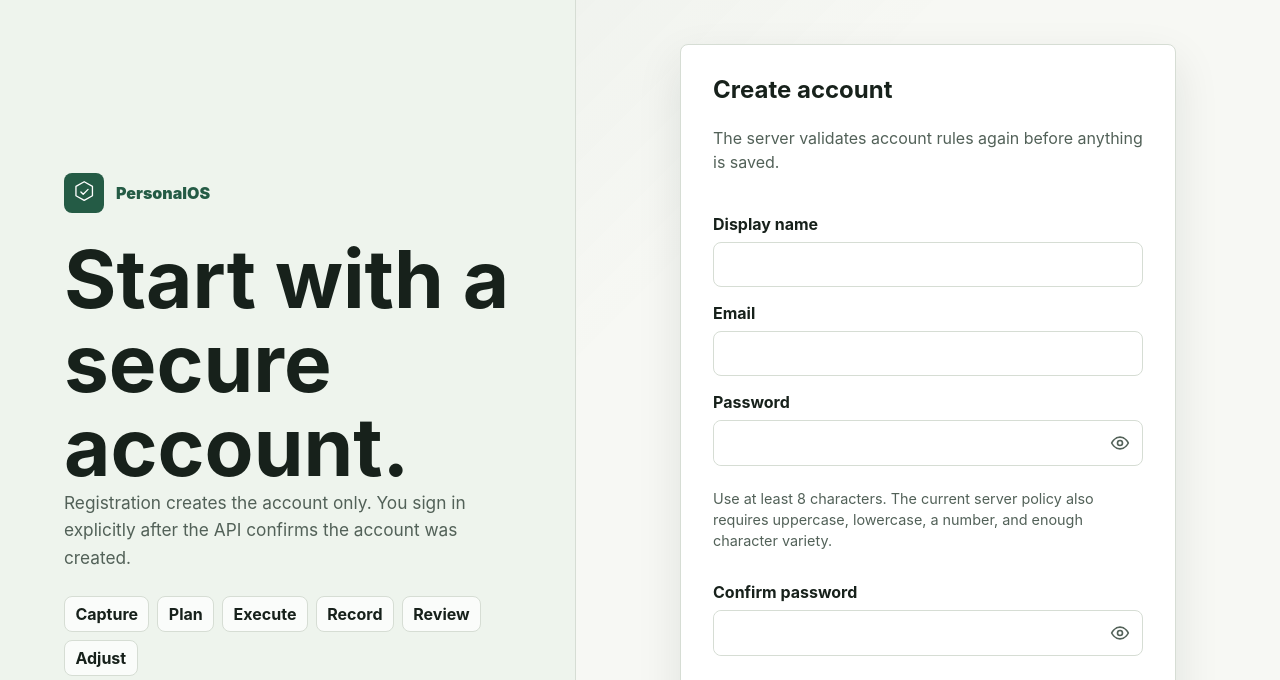
Test case: RegisterComponent › maps safe server validation errors to fields and clears password fields
In the field with id "register-display-name": (928, 265) [713,242,1143,287], type "Jefferson"
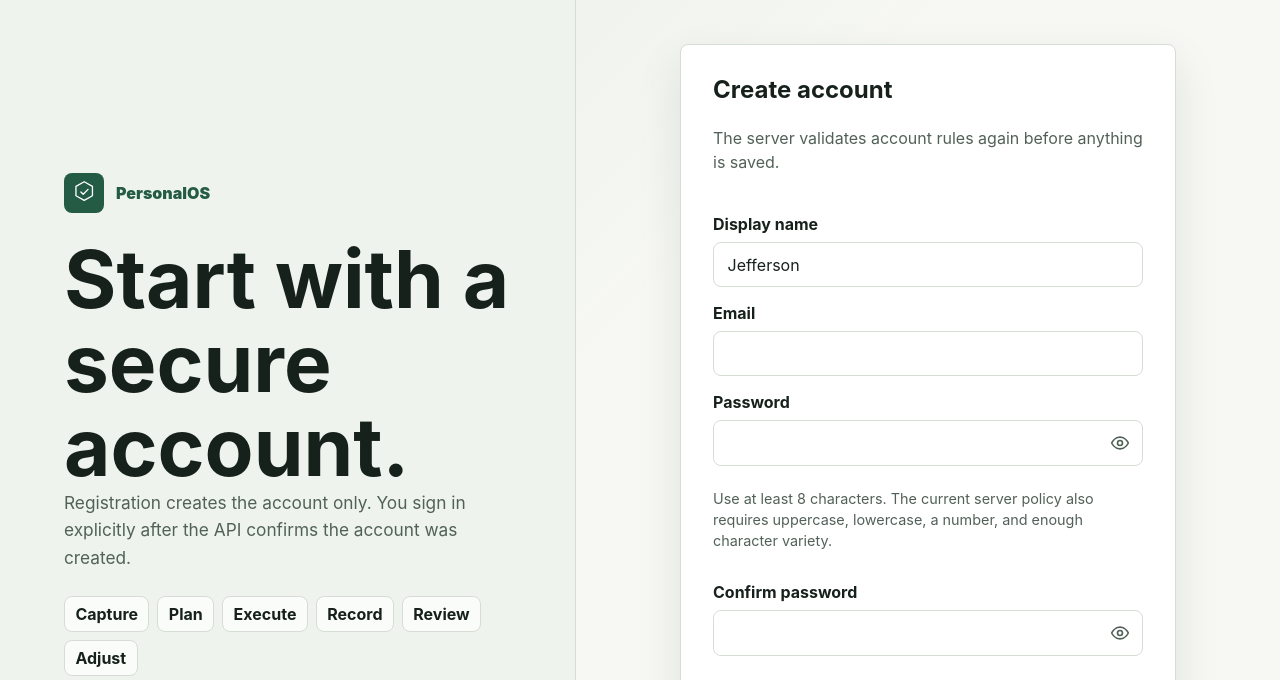
In the field with id "register-email": (928, 354) [713,331,1143,376], type "jefferson@example.com"
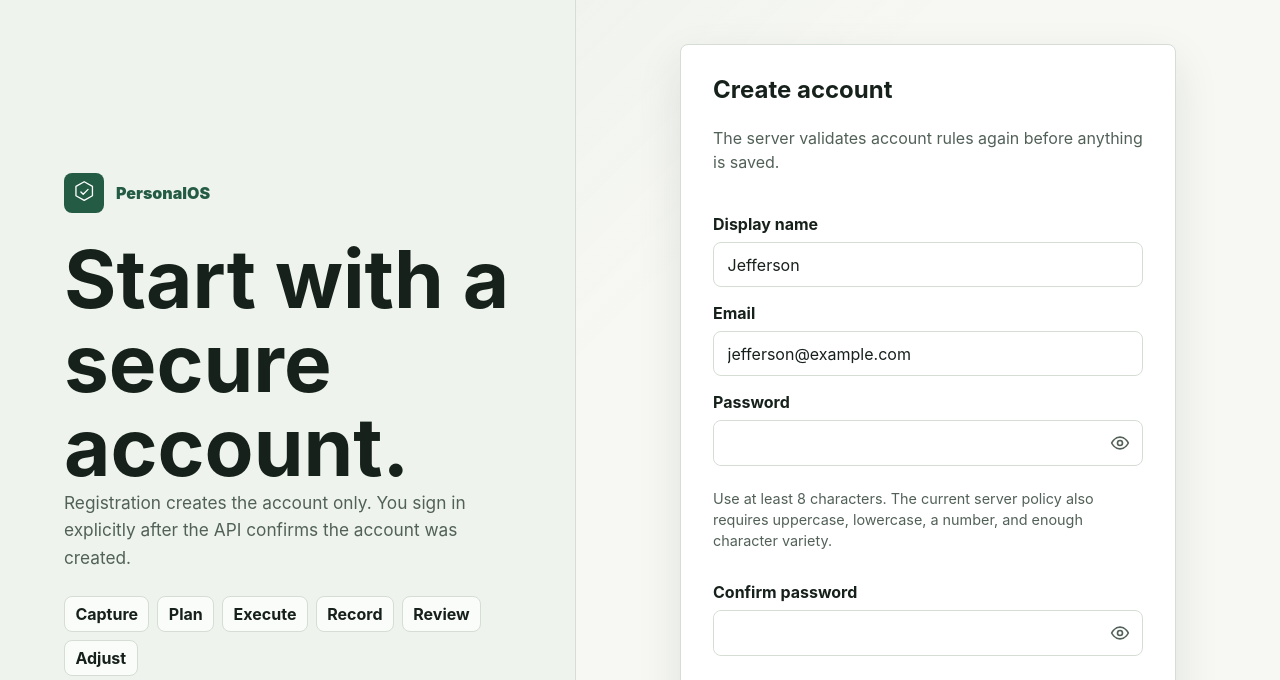
In the password field with id "register-password": (906, 443) [714,421,1098,465], type "Password123"
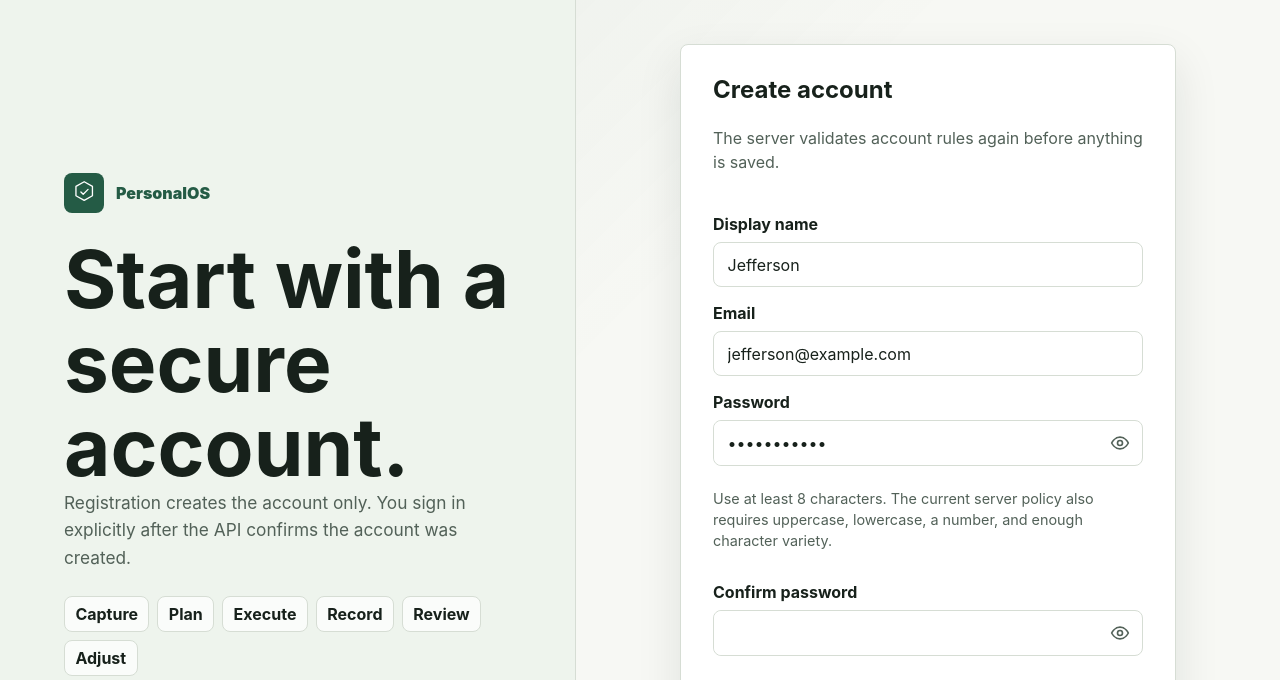
In the password field with id "register-confirm-password": (906, 633) [714,611,1098,655], type "Password123"
(page scrolled)
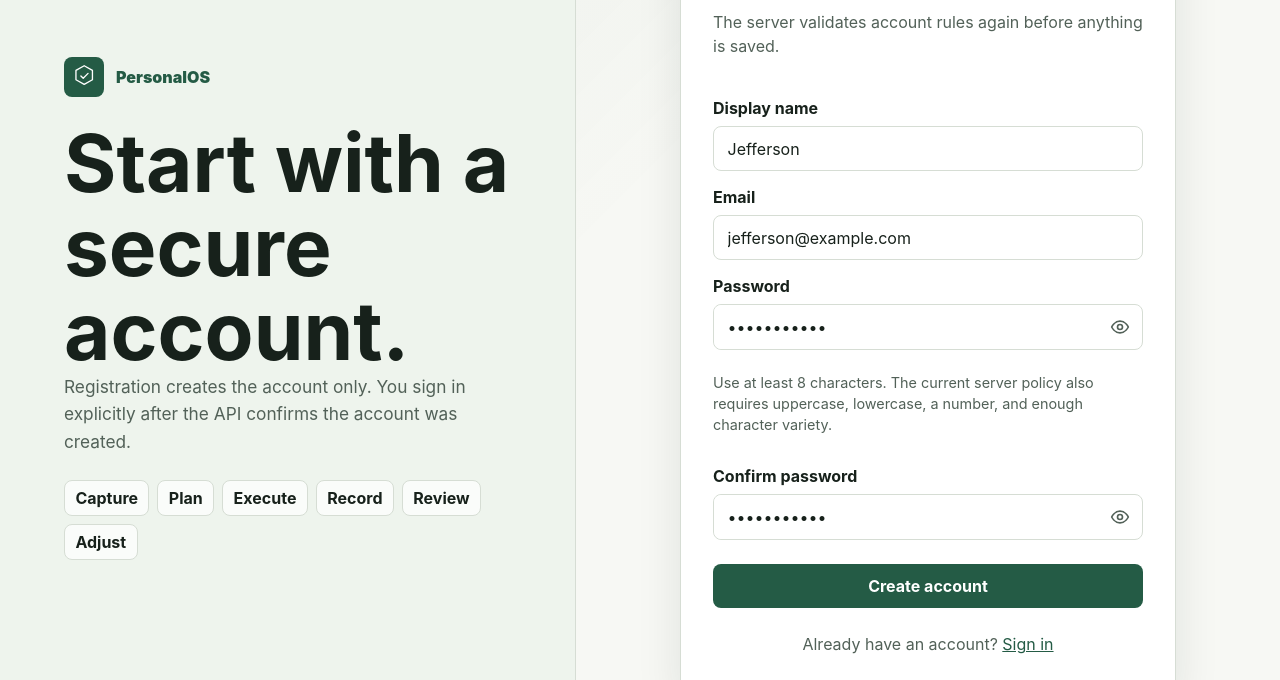
Submit the form, box [713,98,1143,608]
(page scrolled)
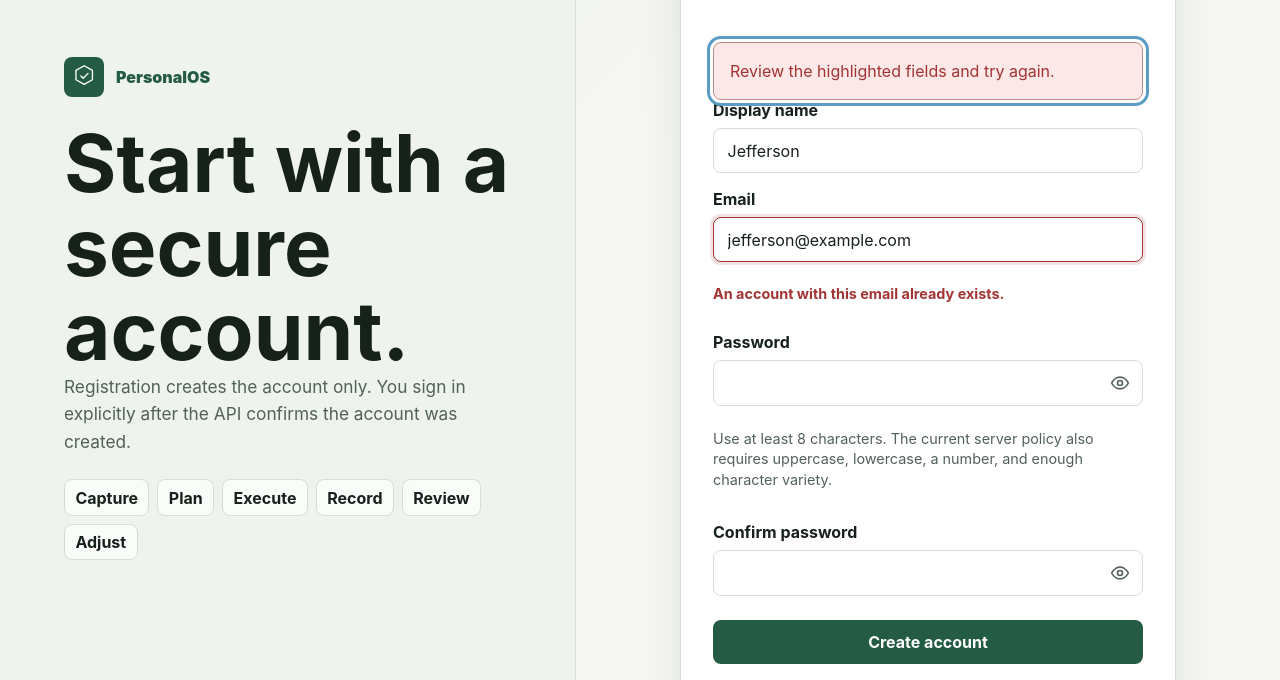
Check: the text "An account with this email already exists." is shown, box [713,285,1004,302]
Check: the password field with id "register-password" is empty, box [714,361,1098,405]
Check: the password field with id "register-confirm-password" is empty, box [714,551,1098,595]
